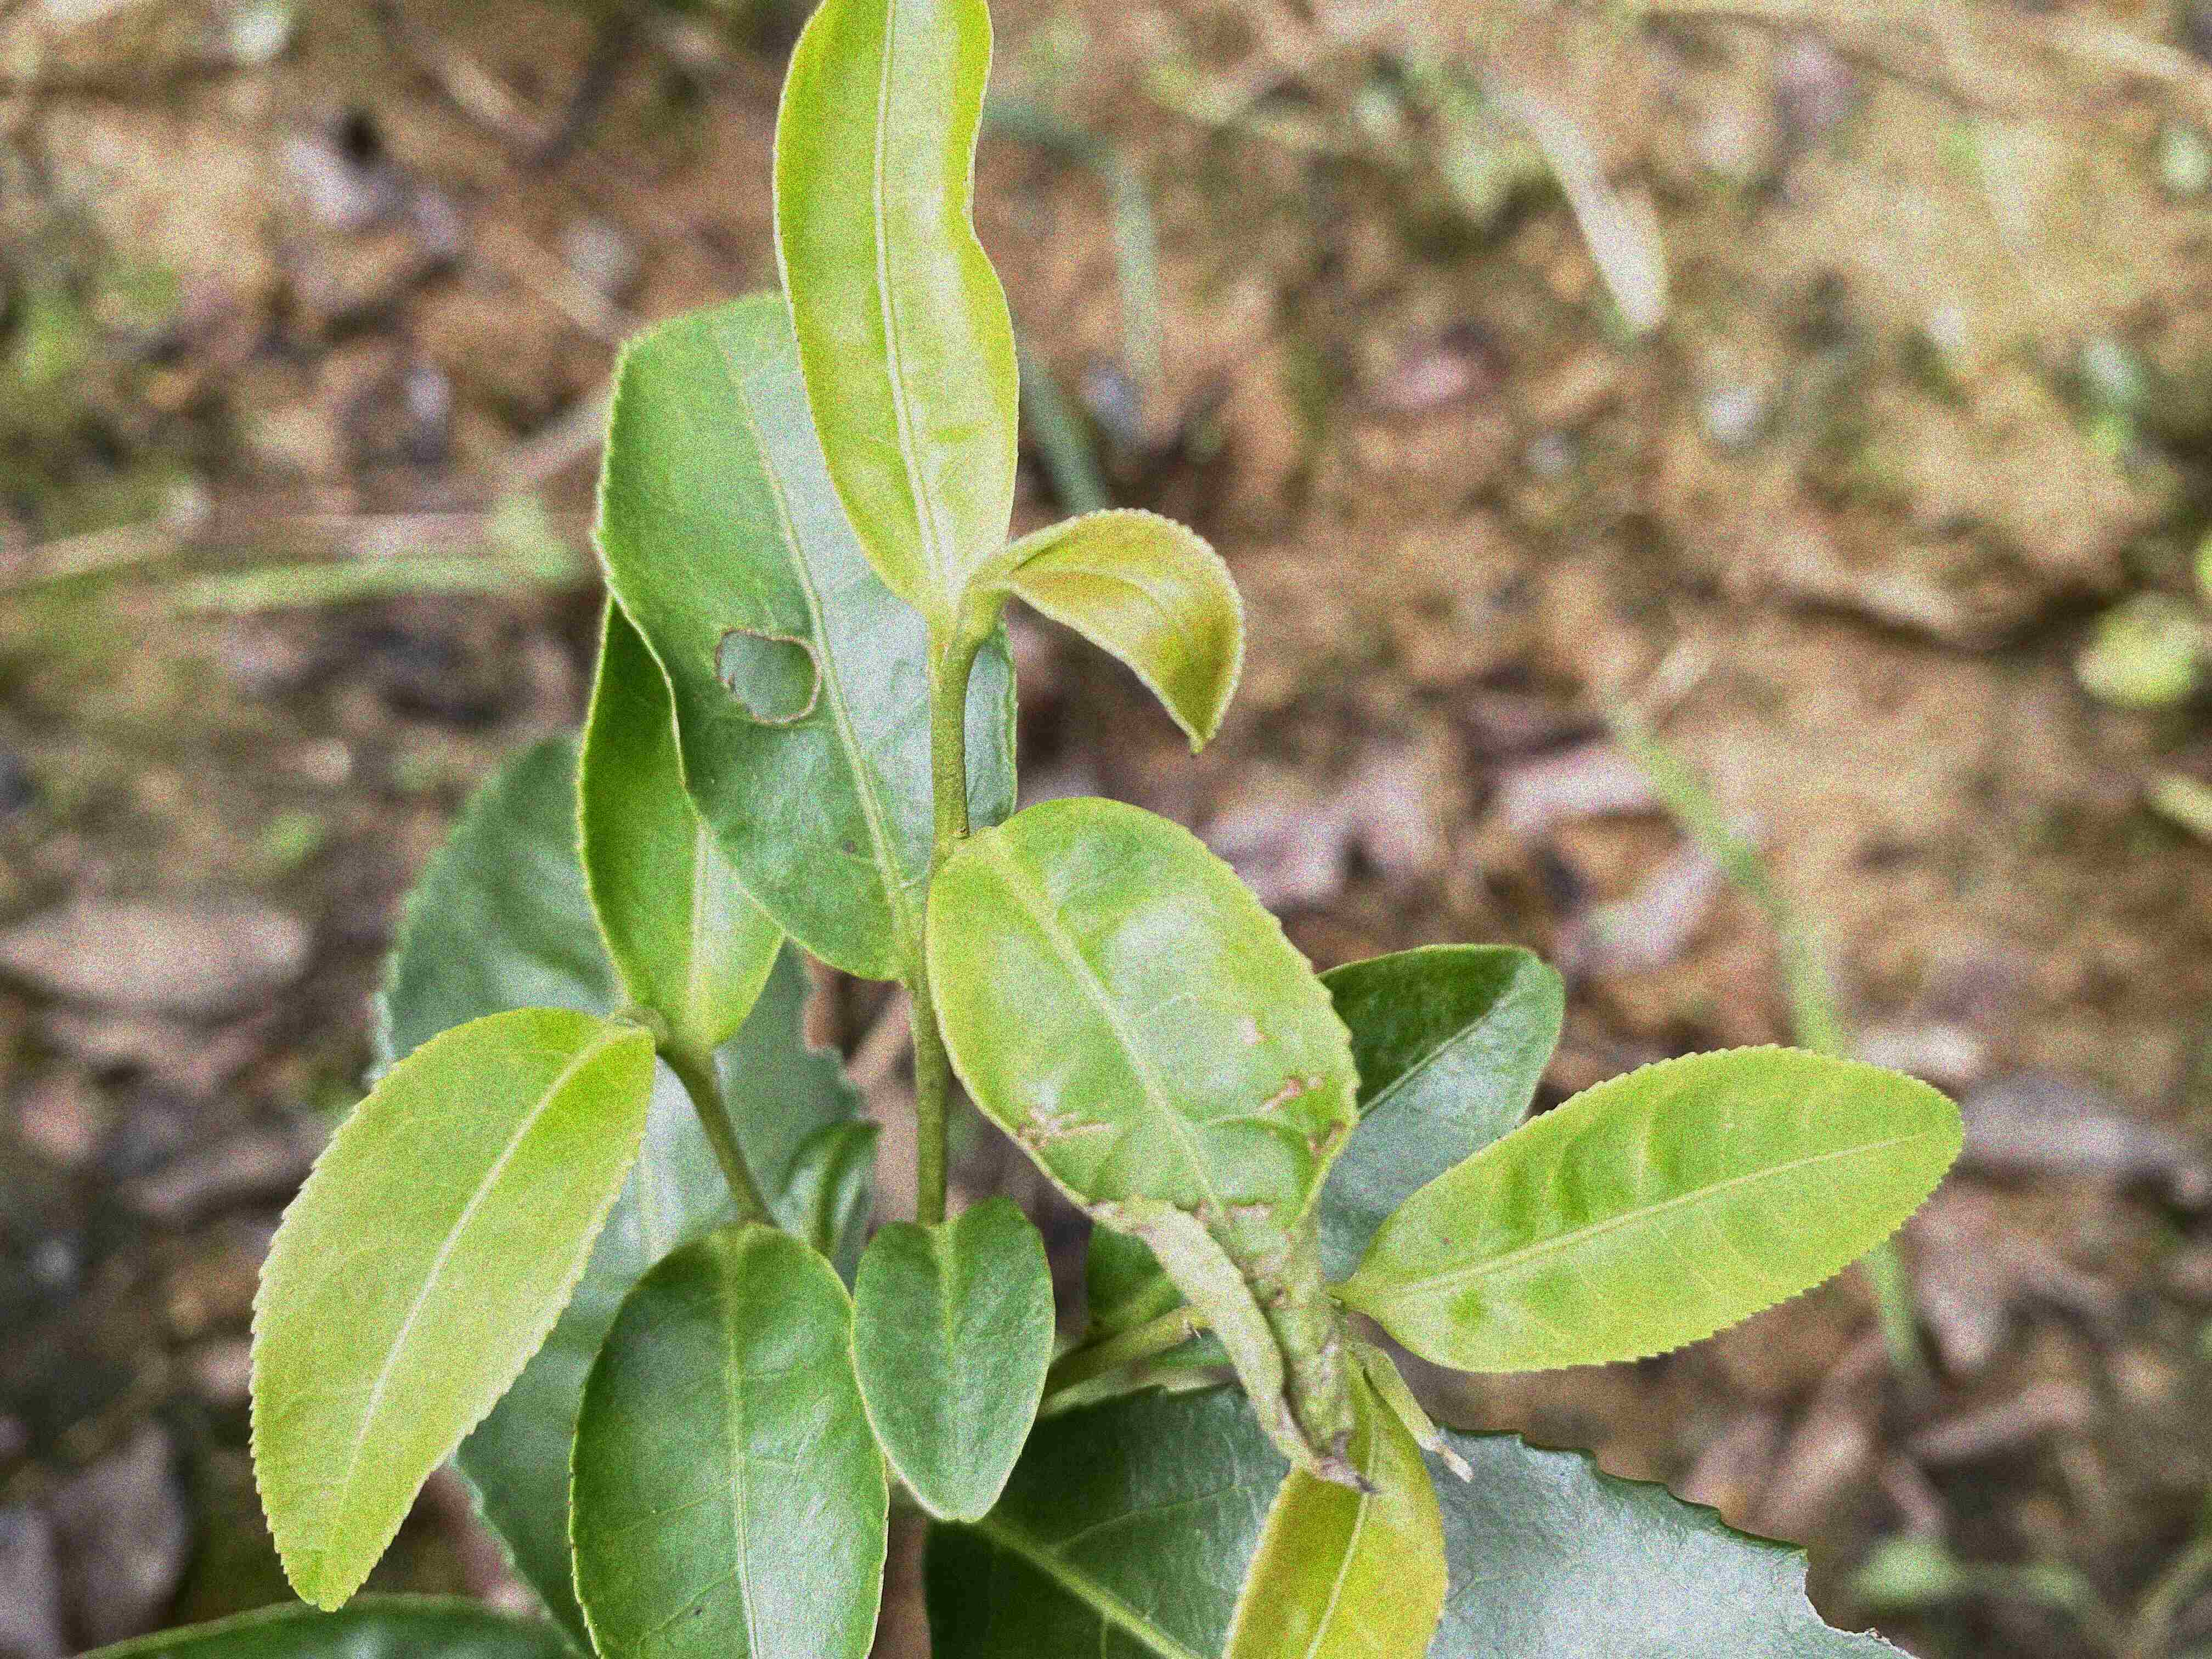chihuo_low: (590, 288, 1015, 983), (923, 1382, 1928, 1654)
healthy: (242, 1006, 651, 1614), (1353, 1042, 1966, 1378), (561, 1222, 890, 1656), (848, 1195, 1055, 1523)
tanju_high: (925, 795, 1376, 1492)
tanju_low: (963, 507, 1245, 760), (1224, 1364, 1451, 1656)
